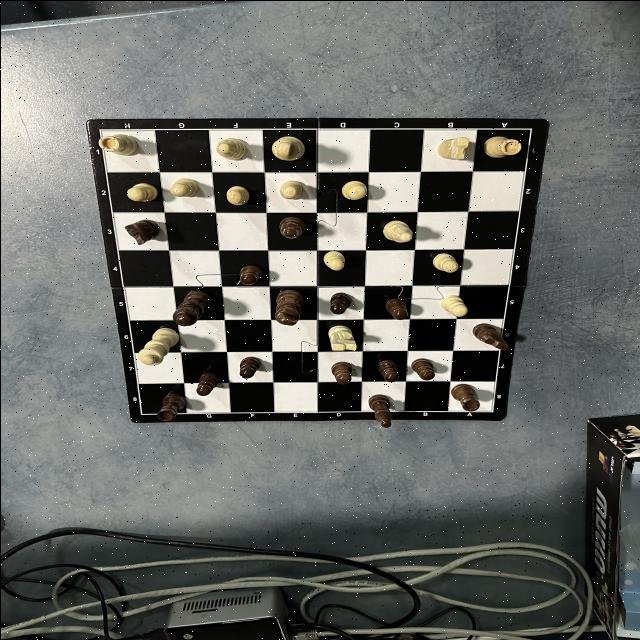Black-Bishop: (368, 394, 392, 427), (278, 216, 304, 238)
Black-King: (274, 289, 302, 325)
Black-Knight: (124, 218, 159, 245), (471, 322, 507, 348)
Black-Pawn: (195, 371, 219, 395), (376, 356, 398, 382), (328, 292, 352, 314), (384, 298, 406, 320), (330, 361, 352, 383), (411, 358, 434, 379), (240, 264, 262, 284), (238, 356, 258, 378)
Black-Queen: (172, 290, 210, 326)
Black-Rook: (155, 394, 185, 420), (451, 383, 478, 410)
White-Bishop: (383, 220, 413, 242), (217, 138, 244, 160)
White-King: (272, 136, 304, 160)
White-Knight: (437, 136, 469, 160), (328, 325, 357, 350)
White-Pawn: (126, 182, 156, 202), (170, 177, 197, 197), (340, 180, 366, 200), (224, 184, 248, 204), (442, 296, 466, 316), (432, 253, 457, 272), (323, 250, 343, 270), (280, 180, 302, 198)
White-Queen: (138, 326, 178, 364)
White-Rook: (97, 134, 137, 156), (482, 136, 520, 158)
